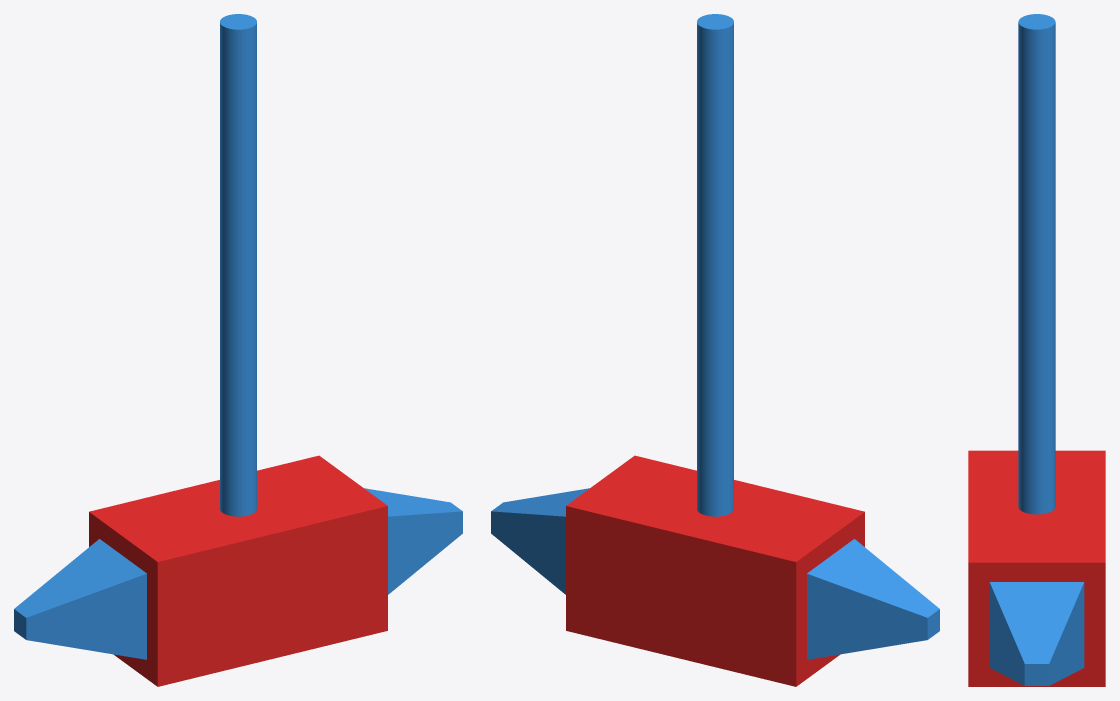
File: obstacle6.fbx
3 views of the same model, side by side, from view 1: azimuth 30°, elevation 25°; view 2: azimuth 150°, elevation 25°; view 3: azimuth 270°, elevation 25° (orthographic).
Visible parts, largest first — view 1: Cylinder; view 2: Cylinder; view 3: Cylinder.
Part boxes in pixels (bbox=[...]): Cylinder: bbox=[14, 14, 462, 686]; Cylinder: bbox=[491, 14, 939, 686]; Cylinder: bbox=[968, 14, 1105, 686].
Bounding box in the file's own units: 732 × 980 × 200.
Materials: 1 (1 with a texture image).
